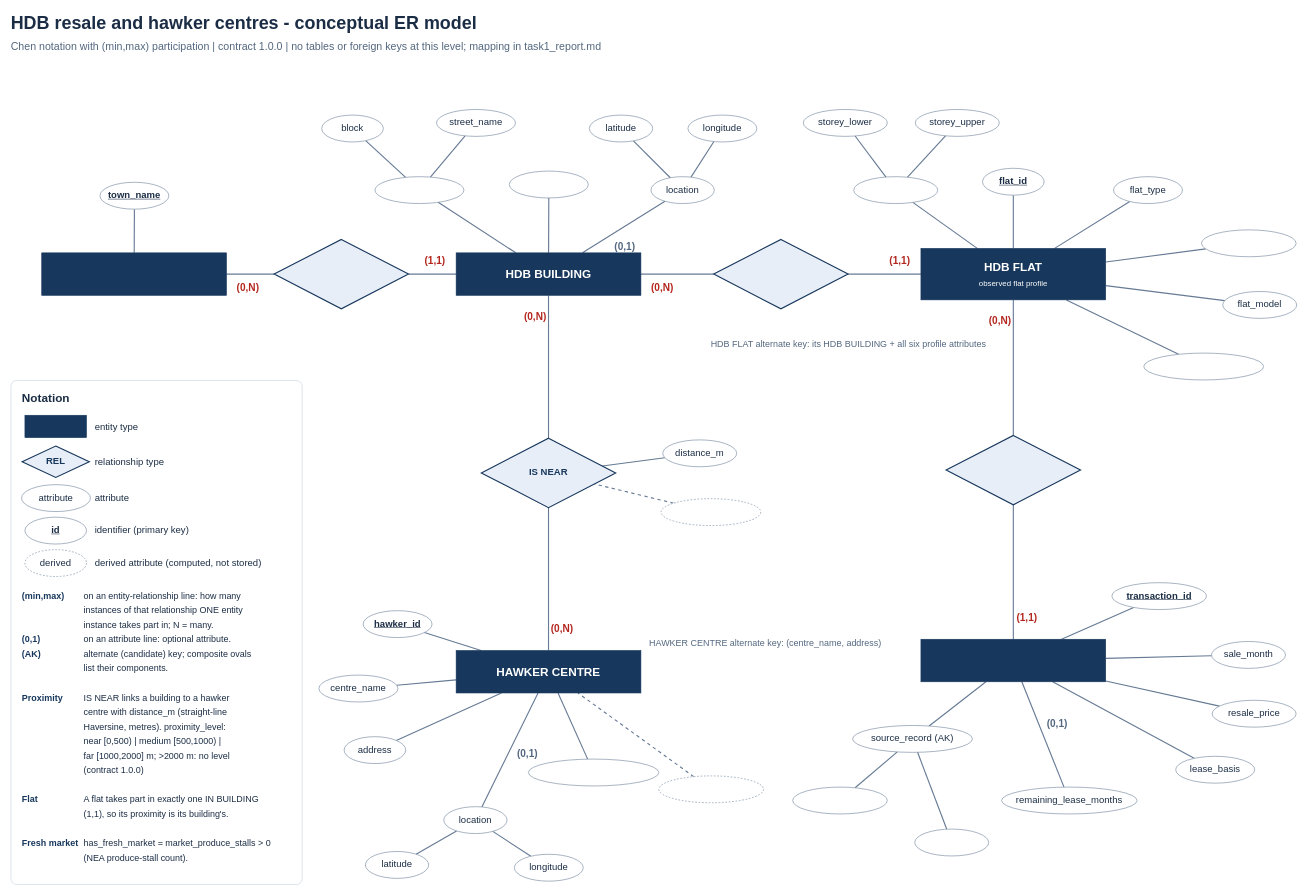
This 1306x894 diagram has some shape labels left out. The shapes that lost their labels are listed below. From the top down, each one's centre as x and y in pixels, then its label:
At (x=419, y=190): "address (AK)".
At (x=548, y=184): "building_id".
At (x=895, y=190): "storey_range".
At (x=1248, y=243): "floor_area_sqm".
At (x=134, y=273): "TOWN".
At (x=341, y=274): "LOCATED IN".
At (x=780, y=274): "IN BUILDING".
At (x=1203, y=366): "lease_commence_year".
At (x=55, y=426): "ENTITY".
At (x=1013, y=470): "SOLD AS".
At (x=711, y=512): "proximity_level".
At (x=1013, y=660): "RESALE TRANSACTION".
At (x=593, y=772): "market_produce_stalls".
At (x=711, y=789): "has_fresh_market".
At (x=839, y=800): "source_dataset".
At (x=951, y=842): "source_row".
